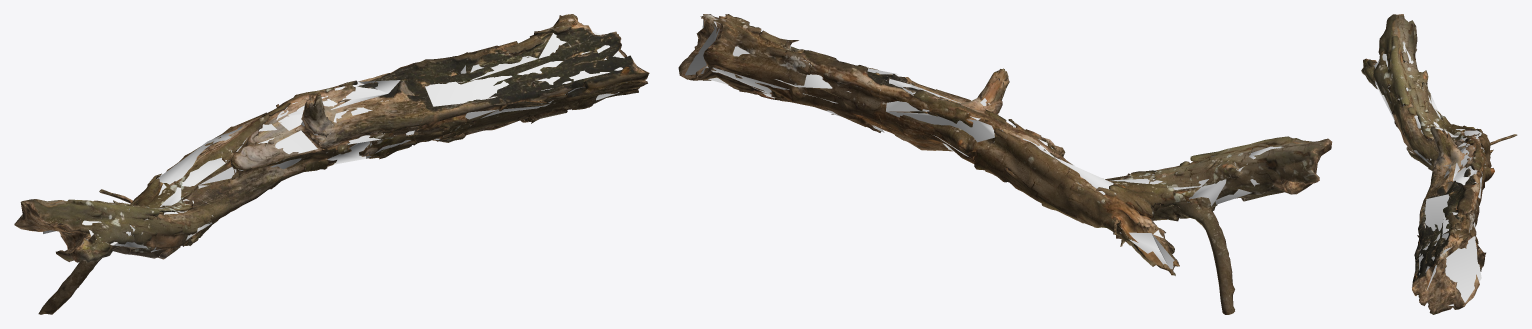
Rendered from ph_dead_tree_trunk_02.glb.
3 views of the same model, side by side, from view 1: azimuth 30°, elevation 25°; view 2: azimuth 150°, elevation 25°; view 3: azimuth 270°, elevation 25° (orthographic). The views are drawn at different scales.
Parts seen in each view (by area): view 1: ph_dead_tree_trunk_02, ph_dead_tree_trunk_02_col; view 2: ph_dead_tree_trunk_02, ph_dead_tree_trunk_02_col; view 3: ph_dead_tree_trunk_02, ph_dead_tree_trunk_02_col.
Boxes of the visible parts, bbox=[...] form: ph_dead_tree_trunk_02: bbox=[14, 14, 649, 314]; ph_dead_tree_trunk_02_col: bbox=[43, 31, 627, 252]; ph_dead_tree_trunk_02: bbox=[678, 14, 1332, 314]; ph_dead_tree_trunk_02_col: bbox=[685, 19, 1283, 269]; ph_dead_tree_trunk_02: bbox=[1361, 14, 1517, 314]; ph_dead_tree_trunk_02_col: bbox=[1373, 41, 1485, 305].
Bounding box in the file's own units: 4.05 × 1.06 × 1.06.
Materials: 1 (1 with a texture image).
